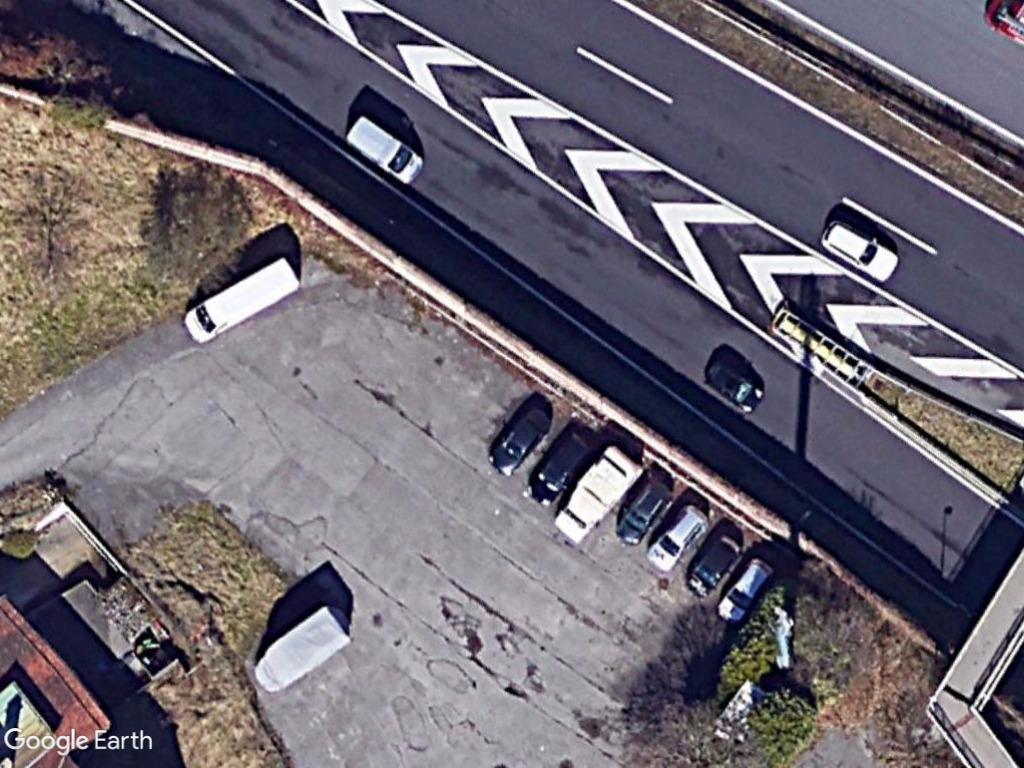car: (517, 426, 601, 504), (815, 213, 902, 288), (484, 394, 558, 472), (643, 499, 717, 576), (712, 553, 778, 630), (680, 520, 749, 592), (608, 475, 676, 546), (702, 353, 770, 421)
van: (181, 256, 307, 347), (340, 110, 427, 192)
